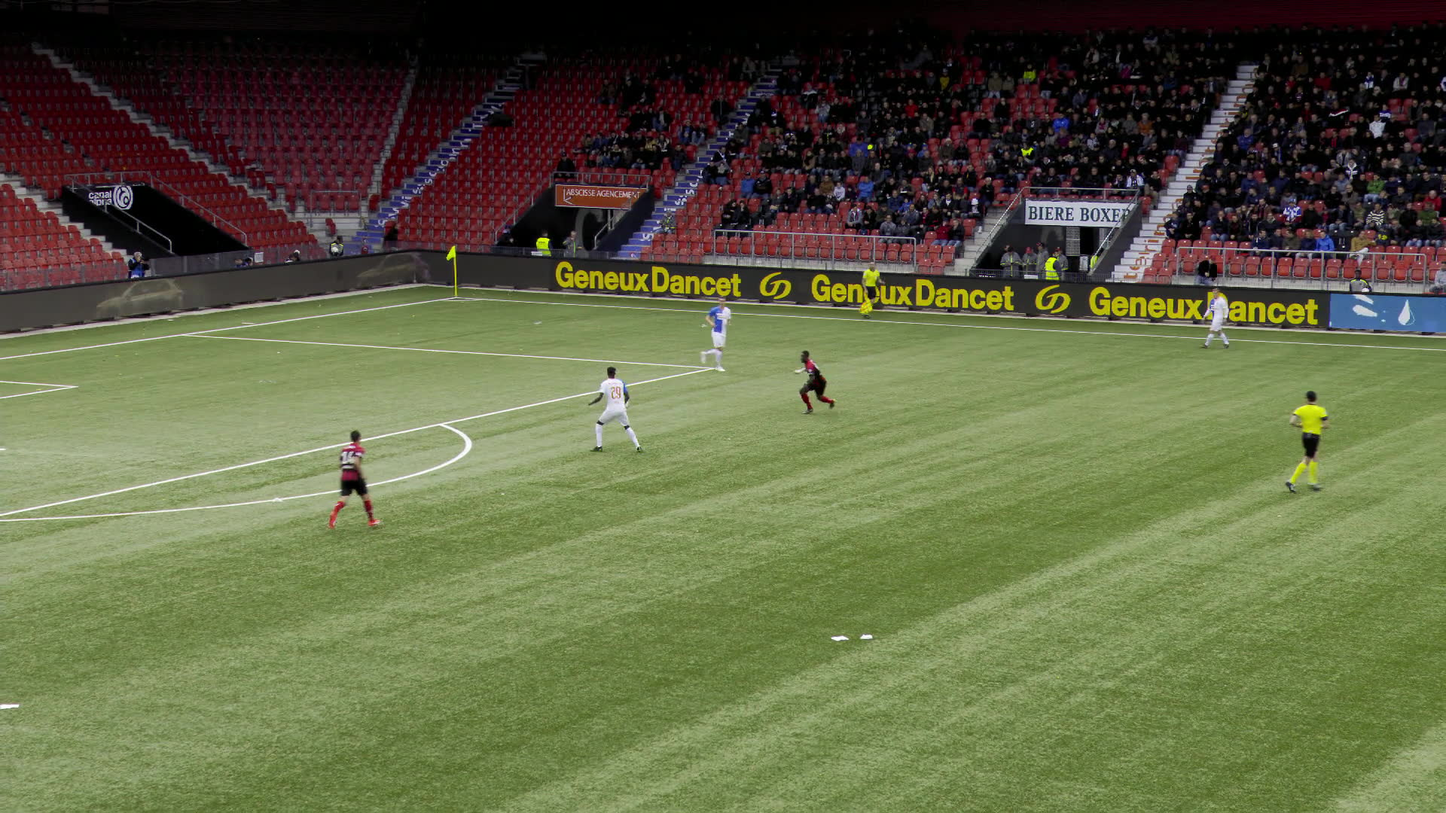ball: (622, 397, 631, 404)
player: (593, 364, 642, 453), (338, 431, 373, 533), (703, 292, 737, 368), (794, 350, 831, 411), (1210, 286, 1234, 348)
referee: (1287, 393, 1335, 492), (859, 259, 885, 318)
